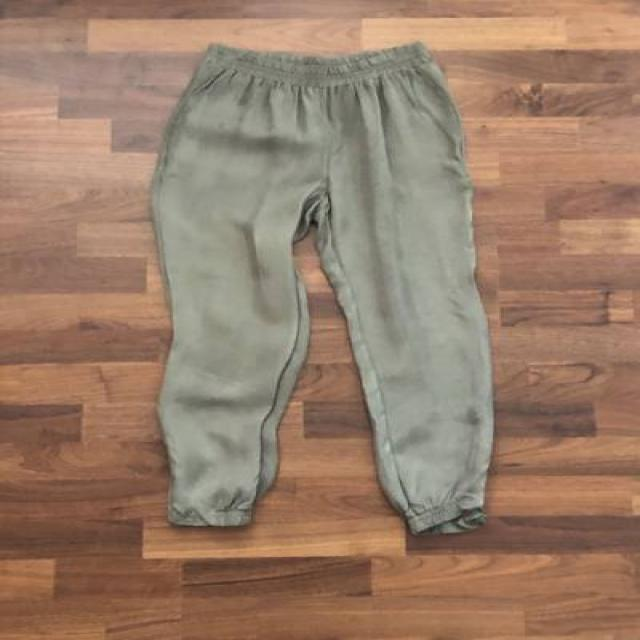Clothes -Biodegradable-: (145, 33, 492, 535)
